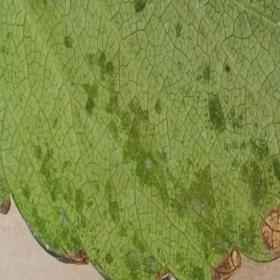Angular Leafspot: (0, 0, 279, 279)
